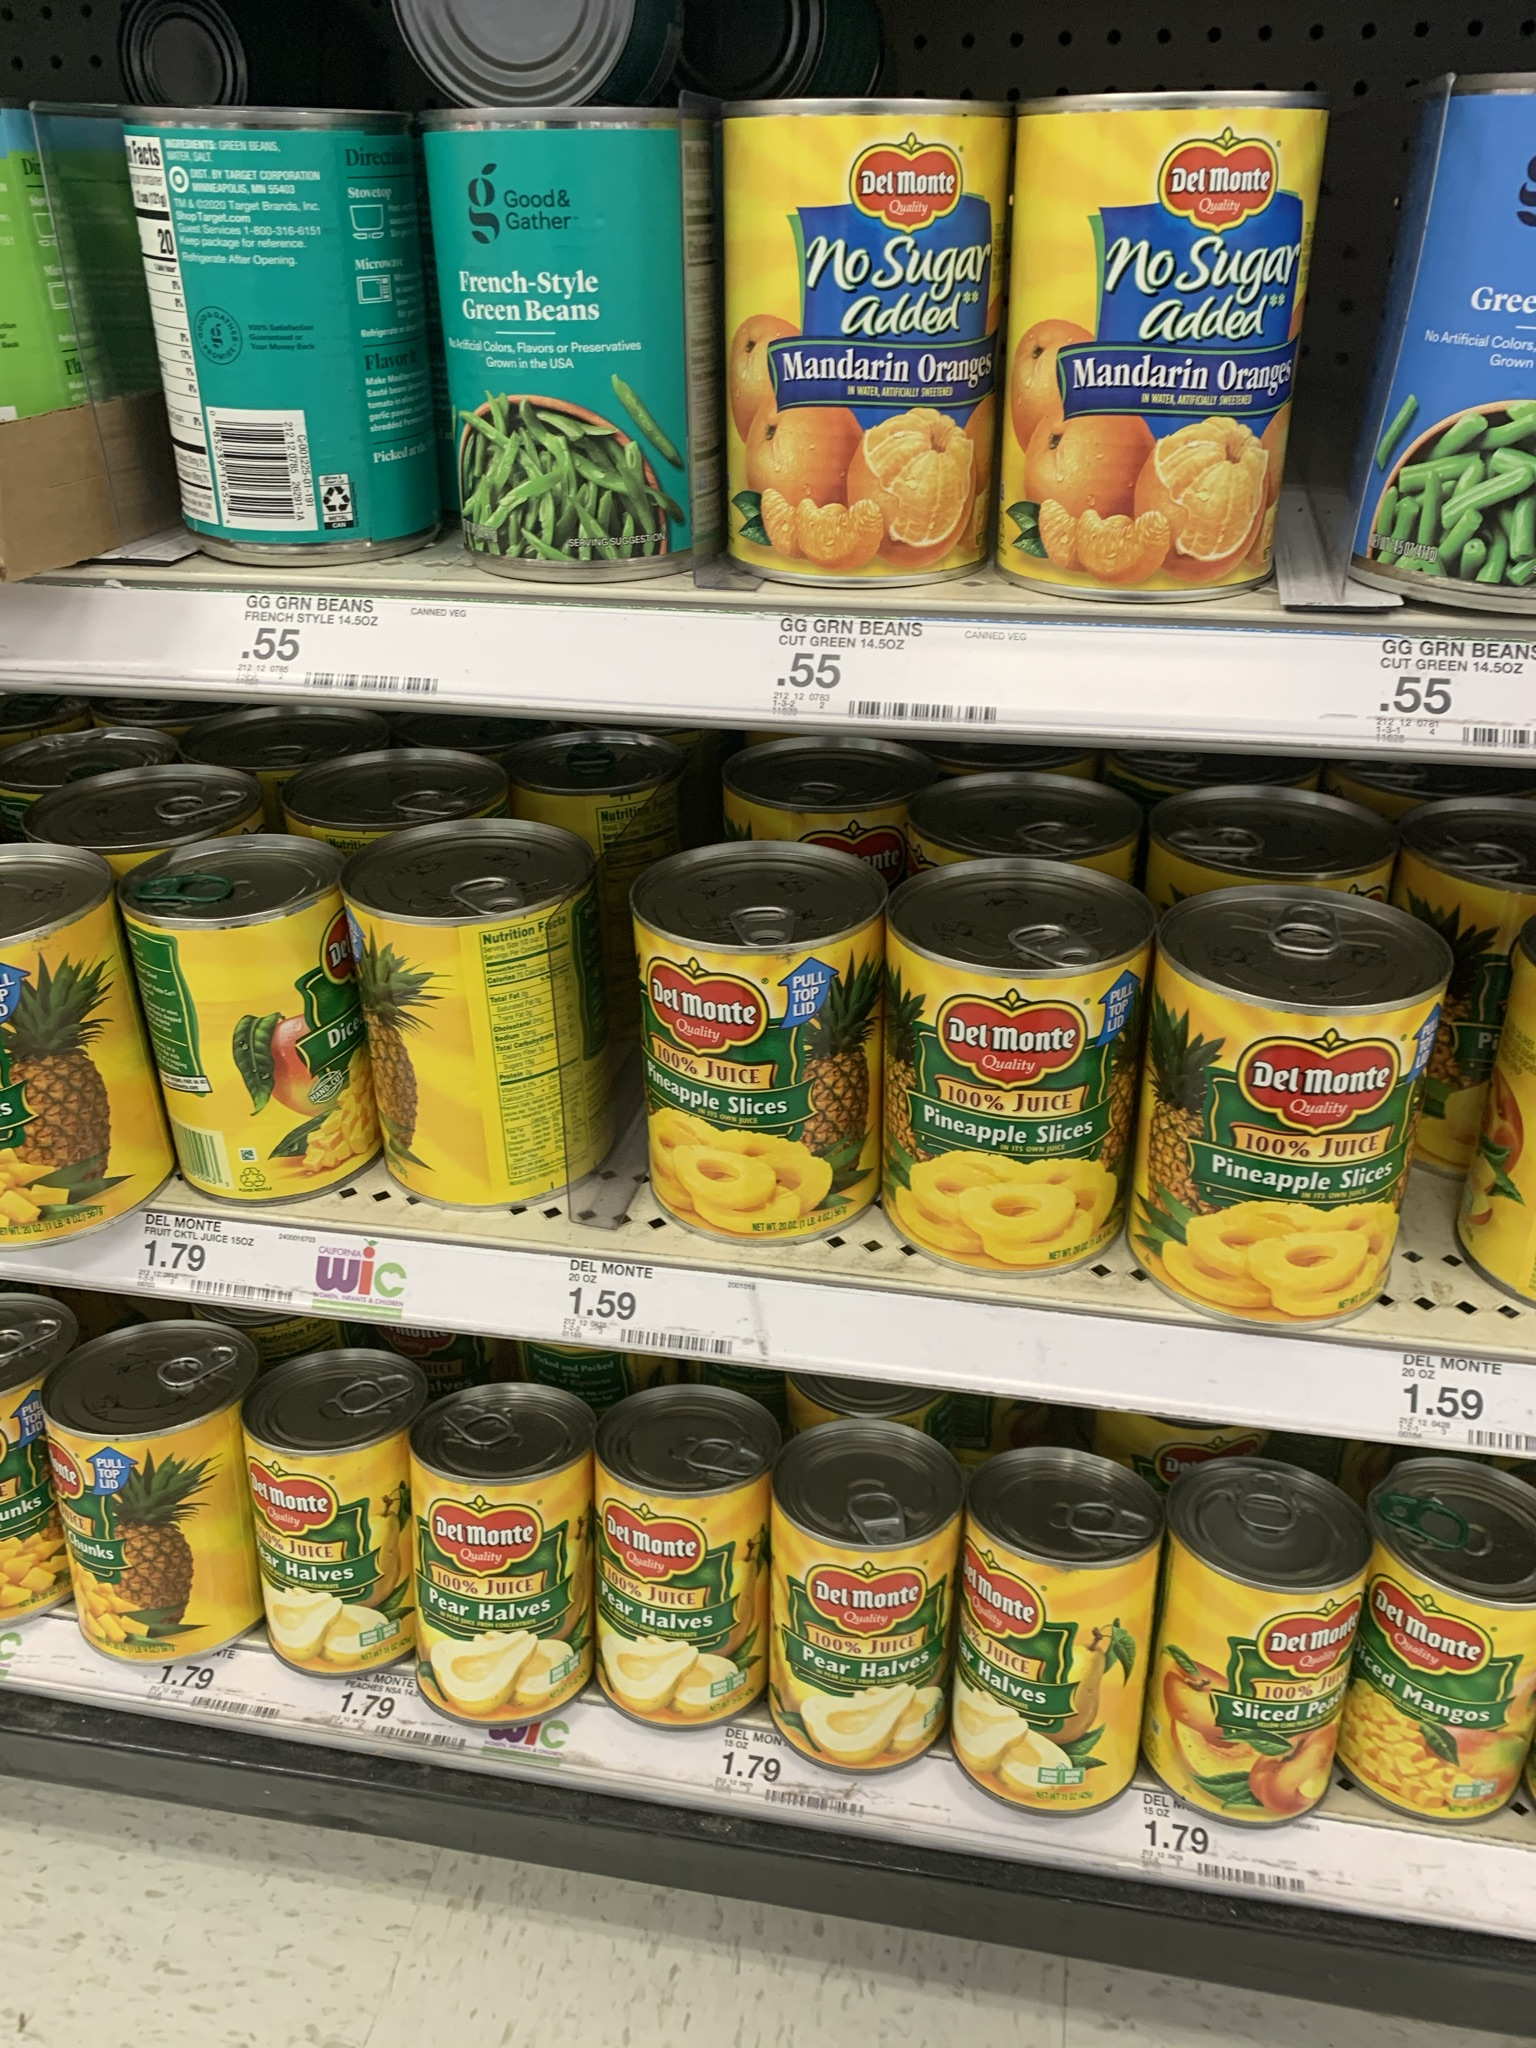can: (1016, 118, 1263, 593), (445, 118, 705, 566), (736, 121, 986, 574), (163, 119, 426, 521), (1155, 955, 1397, 1292), (897, 940, 1125, 1243), (658, 922, 873, 1214), (382, 905, 557, 1197), (1165, 1535, 1341, 1808), (966, 1529, 1146, 1793), (174, 901, 340, 1172), (413, 1447, 582, 1709), (69, 1392, 240, 1646), (603, 1455, 760, 1716), (779, 1500, 941, 1751), (255, 1427, 403, 1667), (2, 885, 94, 1243), (1384, 1556, 1518, 1798)
